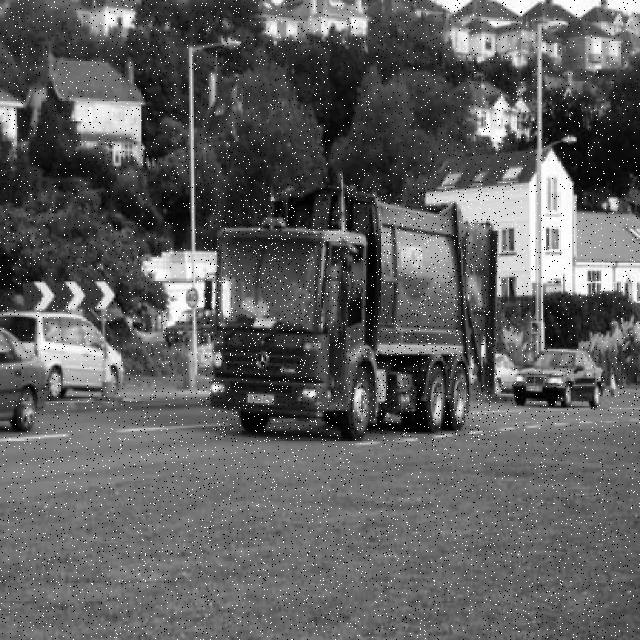Garbage Truck: (205, 186, 499, 442)
